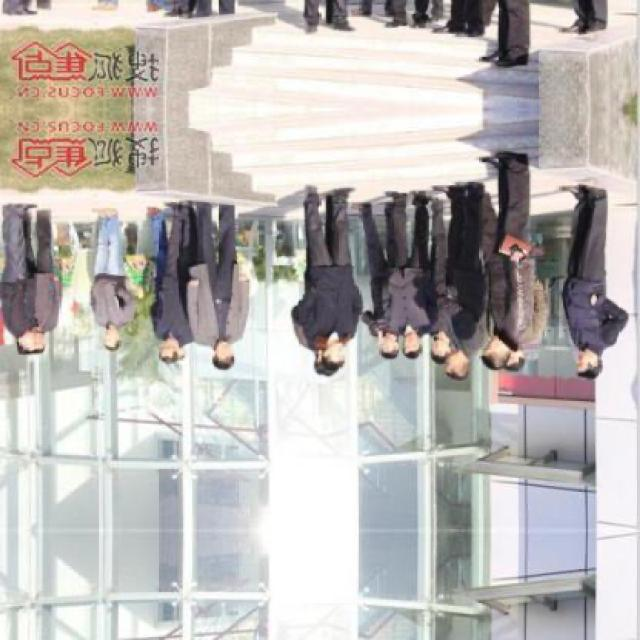sin casco: (549, 345, 616, 391), (188, 330, 244, 371), (153, 325, 195, 371), (439, 353, 484, 395), (490, 325, 524, 379), (323, 330, 351, 375), (391, 328, 422, 366), (6, 322, 44, 352), (105, 317, 130, 358)
